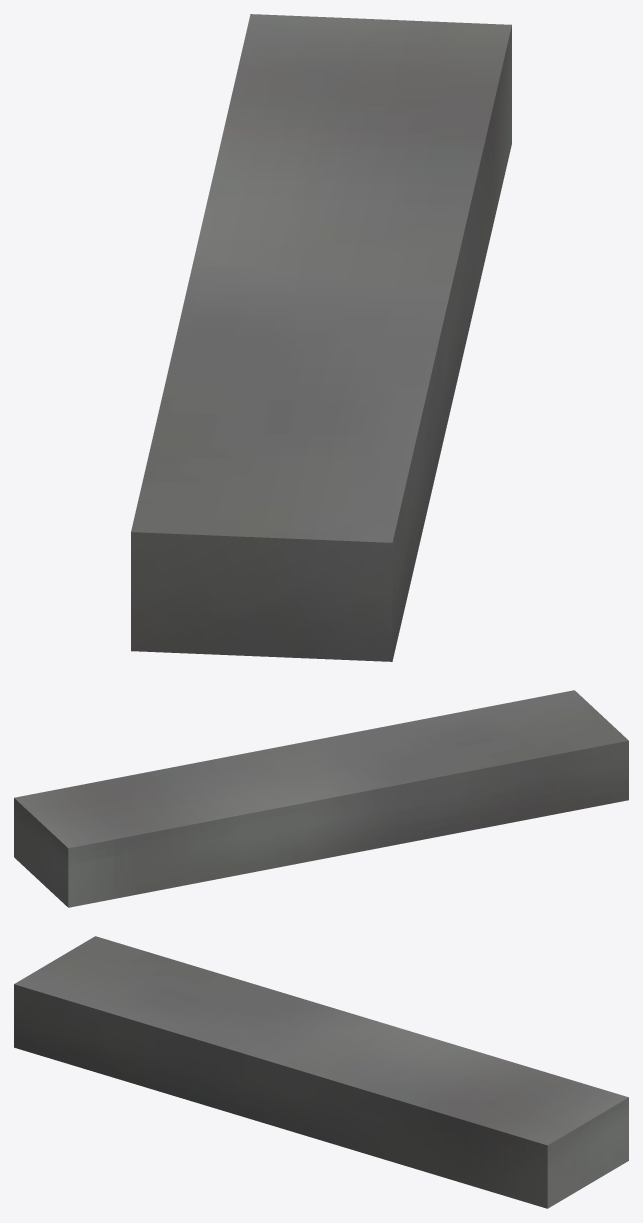
Rendered from pump_body__gauge_tick_2.glb.
3 views of the same model, one above another, from view 1: azimuth 30°, elevation 25°; view 2: azimuth 150°, elevation 25°; view 3: azimuth 270°, elevation 25° (orthographic). The views are drawn at different scales.
Visible parts, largest first — view 1: geometry_0; view 2: geometry_0; view 3: geometry_0.
Part boxes in pixels (<box>): geometry_0: <box>131,14,511,661</box>; geometry_0: <box>14,690,628,907</box>; geometry_0: <box>14,936,628,1208</box>.
Bounding box in the file's own units: 0.0113 × 0.0016 × 0.0141.
Materials: 1 (1 with a texture image).
